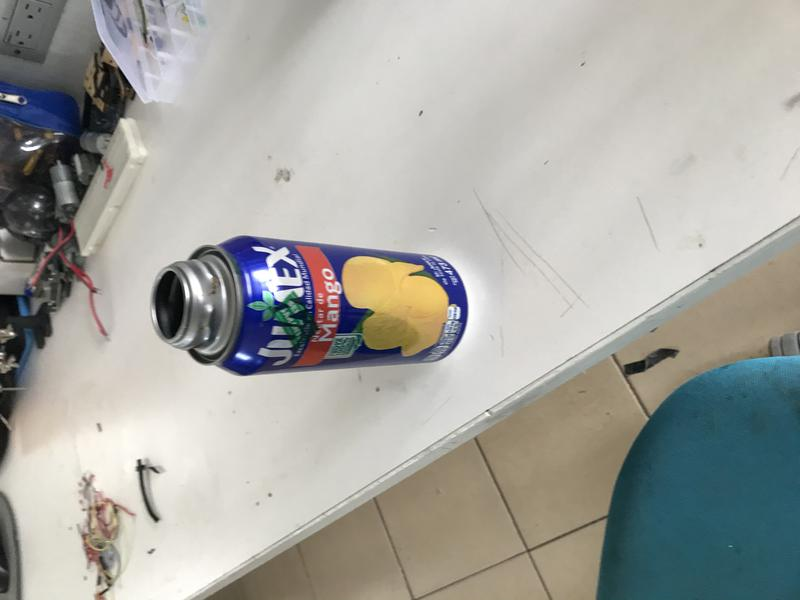jumex_botella: (149, 236, 469, 376)
